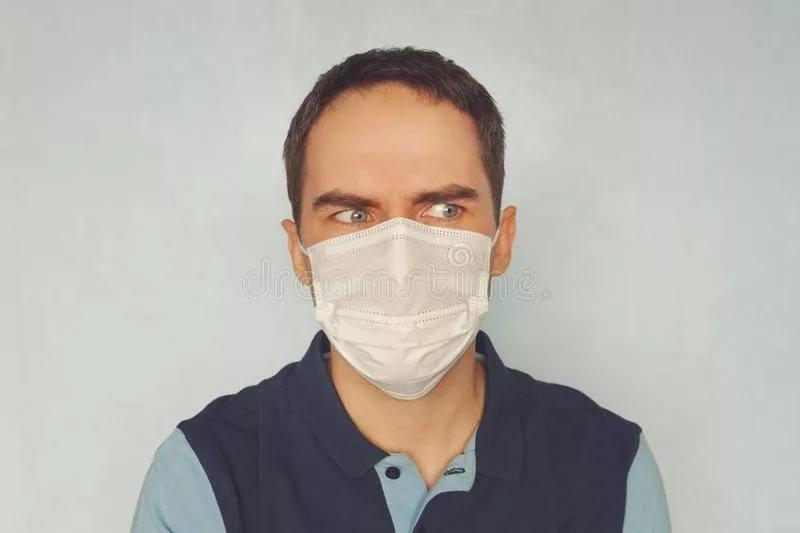mask: (291, 111, 505, 388)
